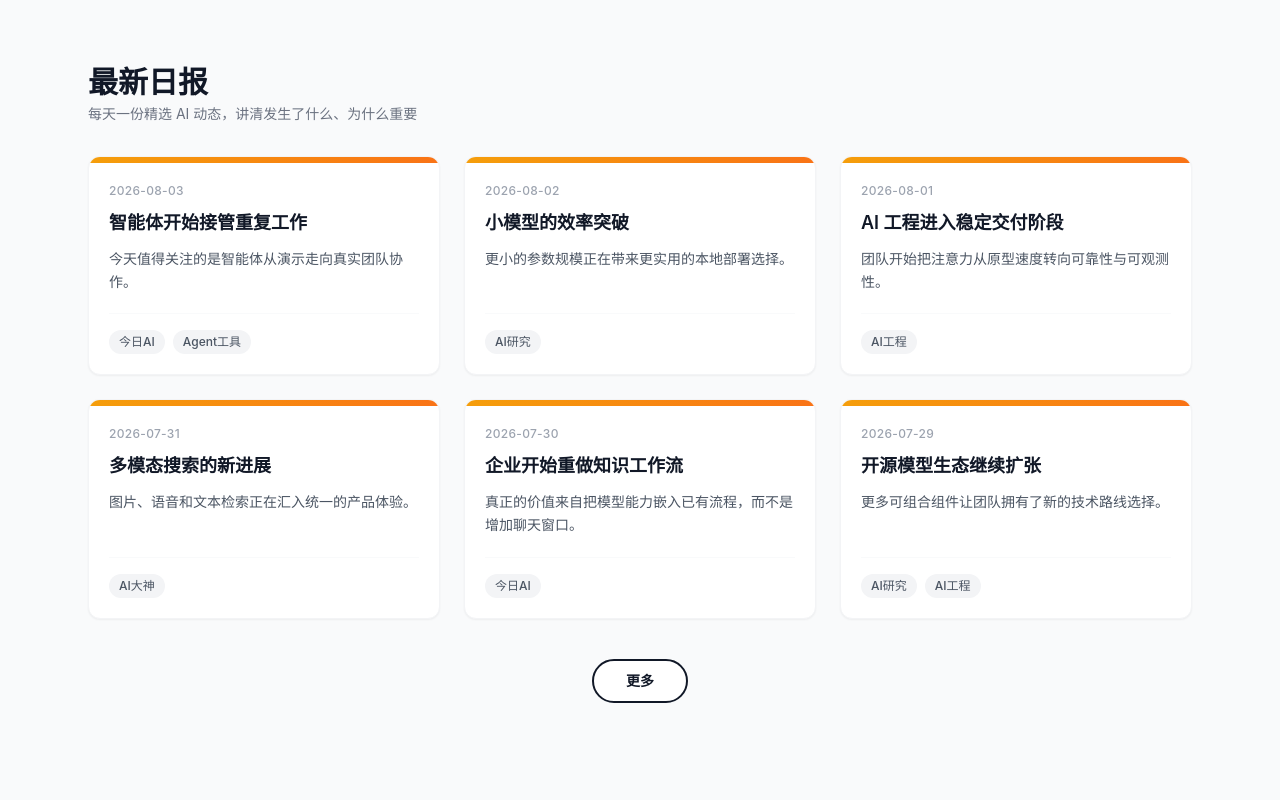
Test case: LatestBriefsGrid › reveals six more daily issues per click until the archive is exhausted
Expected: the heading "最新日报" is shown, [88,64,208,100]
Expected: the text "今天值得关注的是智能体从演示走向真实团队协作。" is shown, [109,248,419,293]
Click the button "更多": (640, 680) [592,658,688,702]
(page scrolled)
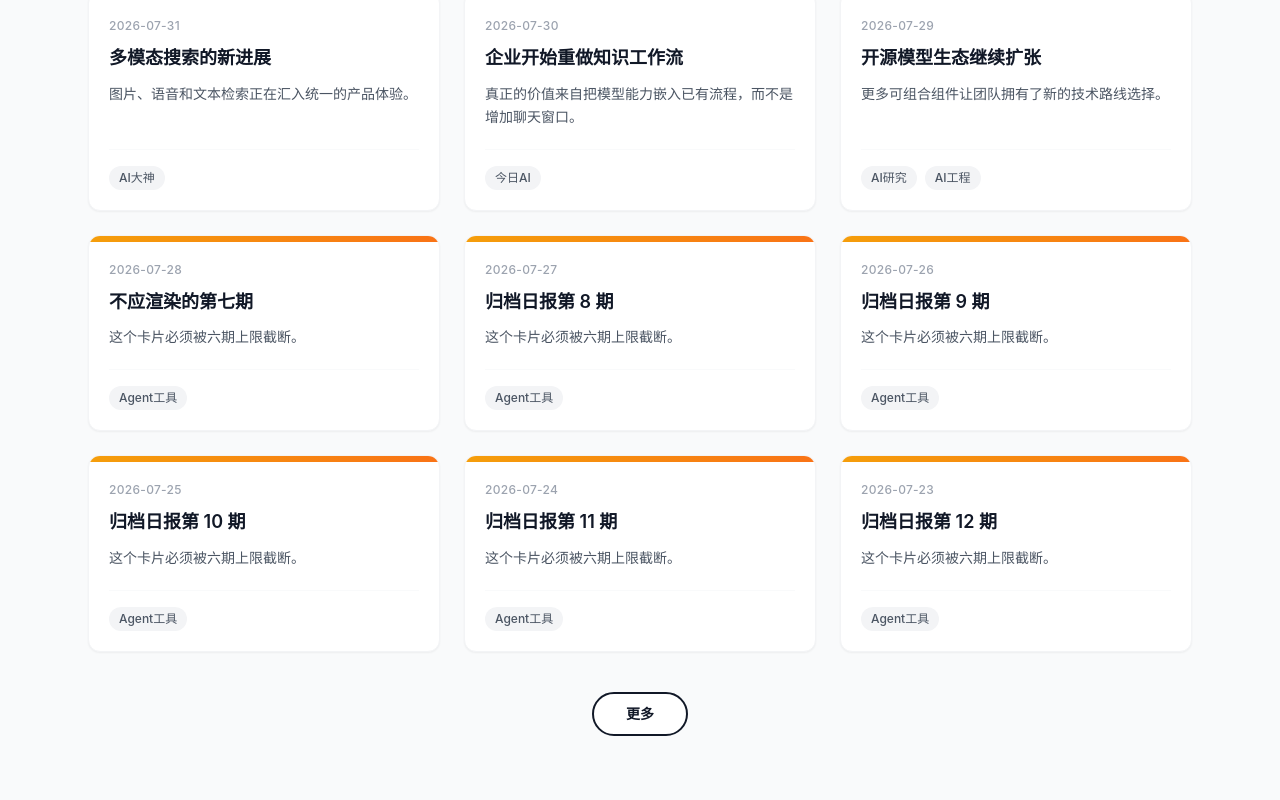
Expected: the text "归档日报第 13 期" is not shown
Expected: the heading "不应渲染的第七期" is shown, [109,290,253,312]
Click the button "更多": (640, 714) [592,692,688,736]
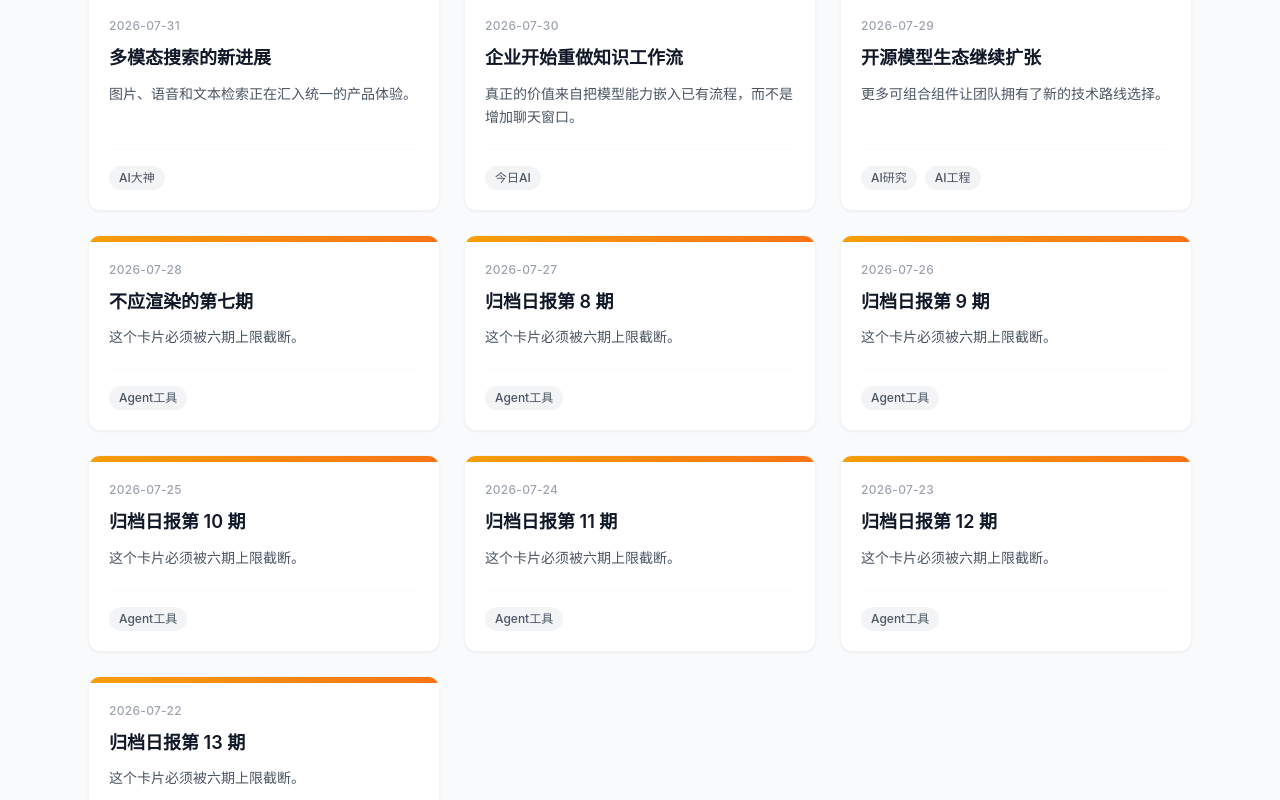
Expected: the heading "归档日报第 13 期" is shown, [109,732,245,752]
